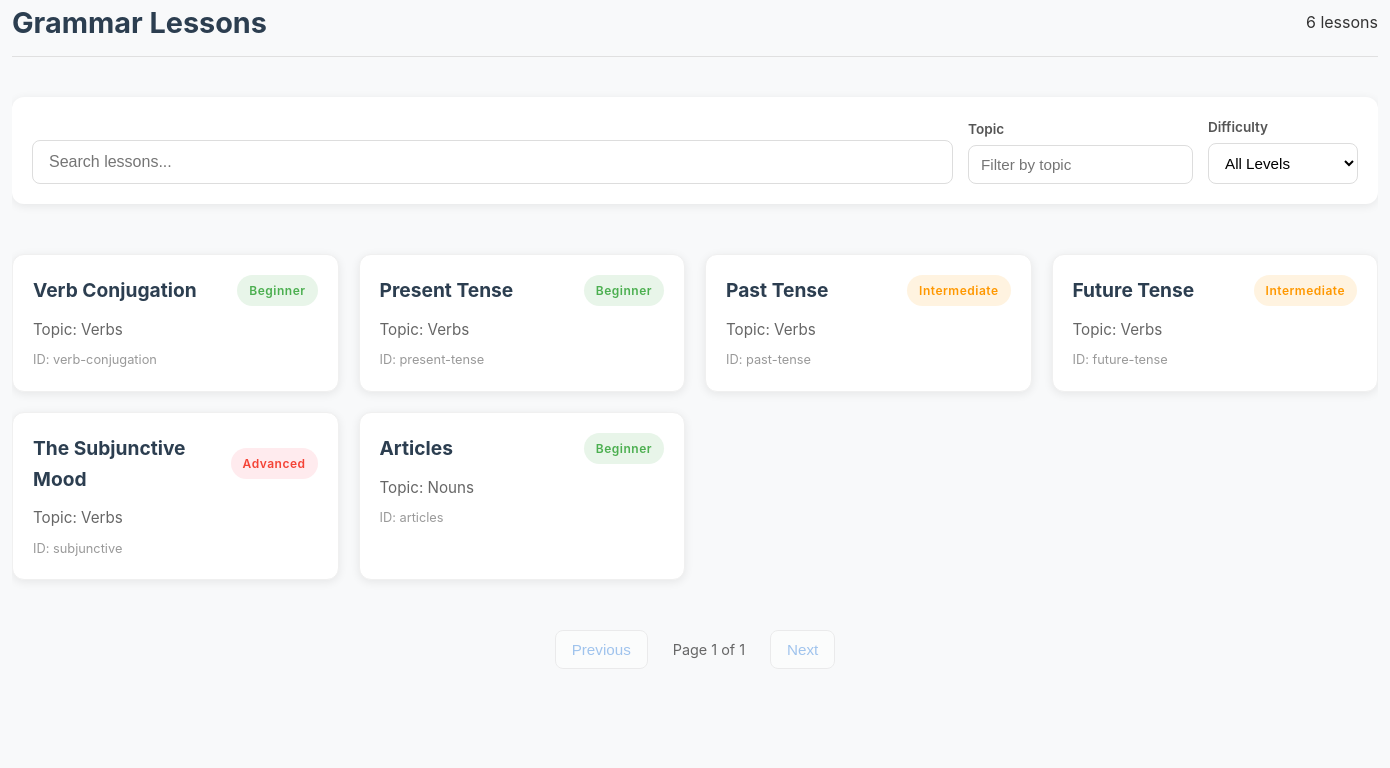
Test: LessonBrowser › Search › filters lessons by search query (client-side)
expect the element with test id "lessons-grid" is shown: met, box 12,254 -> 1378,580
# Enter search query
In the field with test id "lesson-search-input": (492, 162) 32,140 -> 953,184, type "tense"
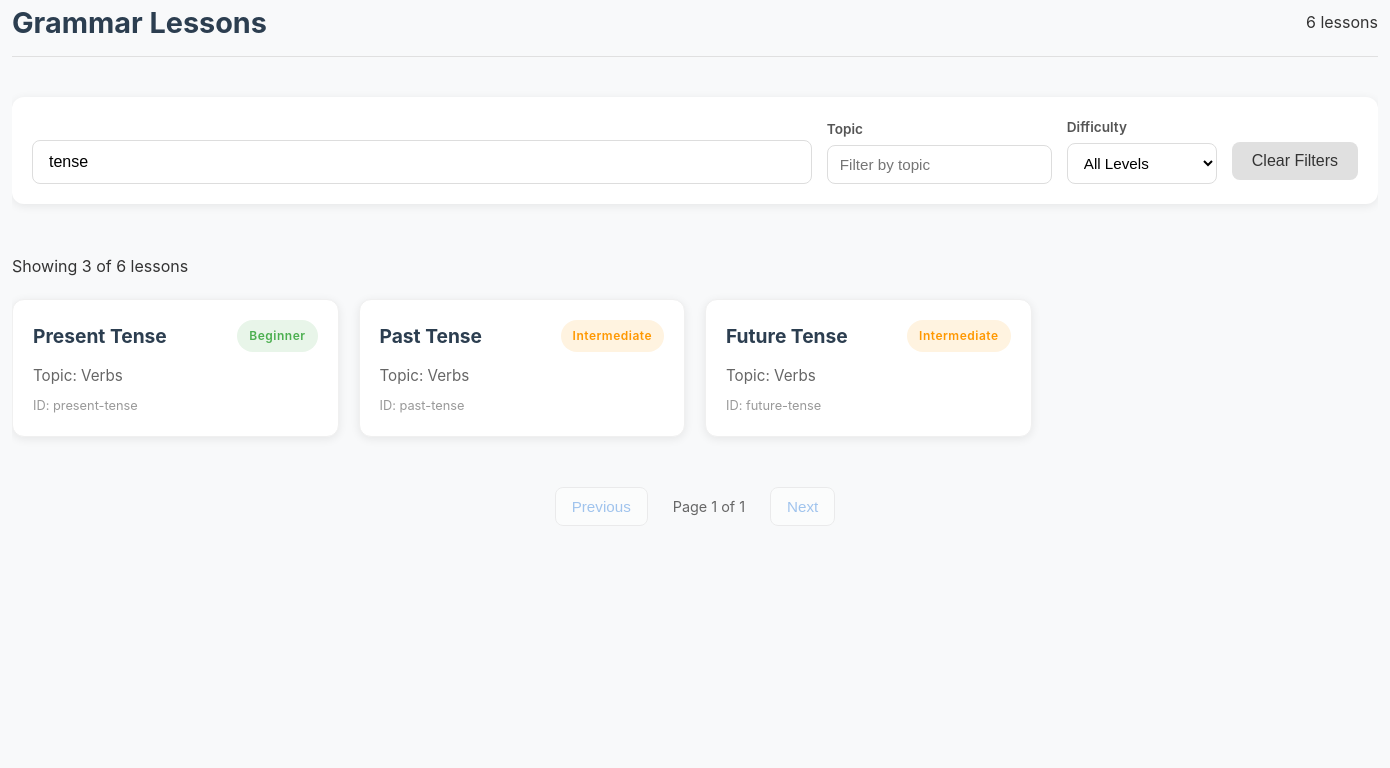
expect the heading "Present Tense" is shown: met, box 33,324 -> 167,348
expect the button "Verb Conjugation" is gone: met
